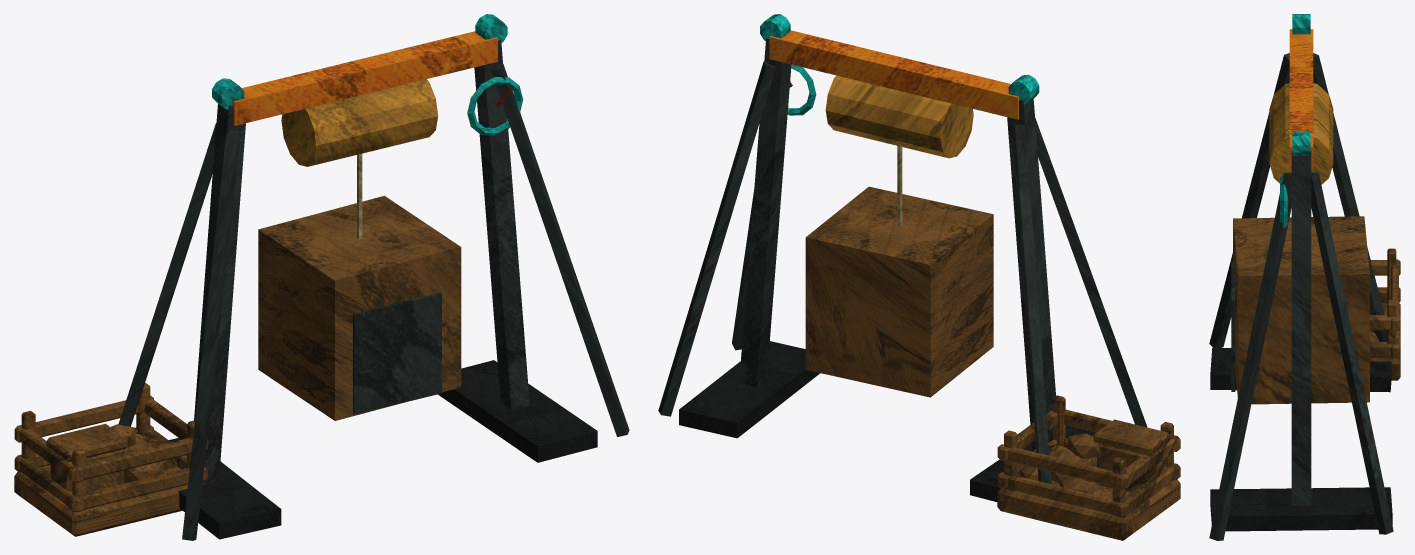
The model's file is north-extraction-gantry.glb.
3 renders of one model, left to right at view 1: azimuth 30°, elevation 25°; view 2: azimuth 150°, elevation 25°; view 3: azimuth 270°, elevation 25°, orthographic. The views are drawn at different scales.
Parts seen in each view (by area): view 1: north-extraction-gantry; view 2: north-extraction-gantry; view 3: north-extraction-gantry.
Part boxes in pixels (x1=…): north-extraction-gantry: x1=14, y1=14, x2=629, y2=540; north-extraction-gantry: x1=658, y1=14, x2=1180, y2=540; north-extraction-gantry: x1=1209, y1=14, x2=1400, y2=540.
Bounding box in the file's own units: 10.59 × 8.09 × 3.71.
1 material, 1 textured.
